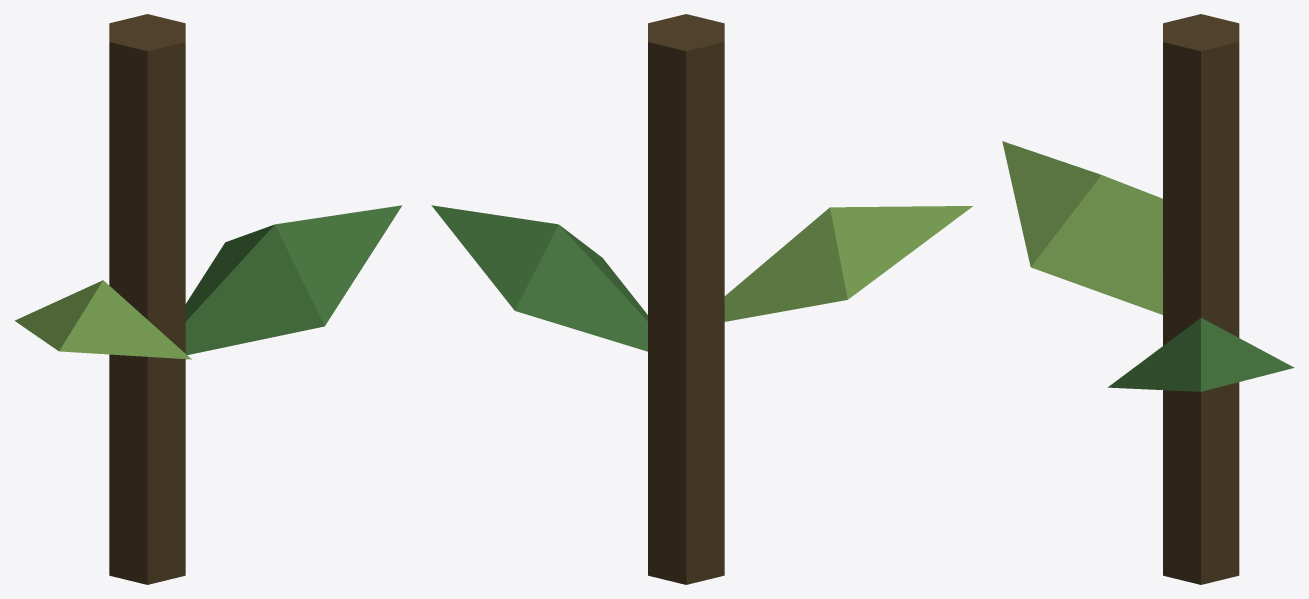
The model's file is RubberPlant1.gltf.
The picture shows the model from 3 angles, left to right: view 1: azimuth 30°, elevation 25°; view 2: azimuth 150°, elevation 25°; view 3: azimuth 270°, elevation 25°; orthographic projection.
Parts seen in each view (by area): view 1: RubberPlant1; view 2: RubberPlant1; view 3: RubberPlant1.
Part boxes in pixels (<box>): RubberPlant1: <box>15,14,401,584</box>; RubberPlant1: <box>431,14,972,584</box>; RubberPlant1: <box>1002,14,1294,584</box>.
Bounding box in the file's own units: 0.139 × 0.16 × 0.0795.
